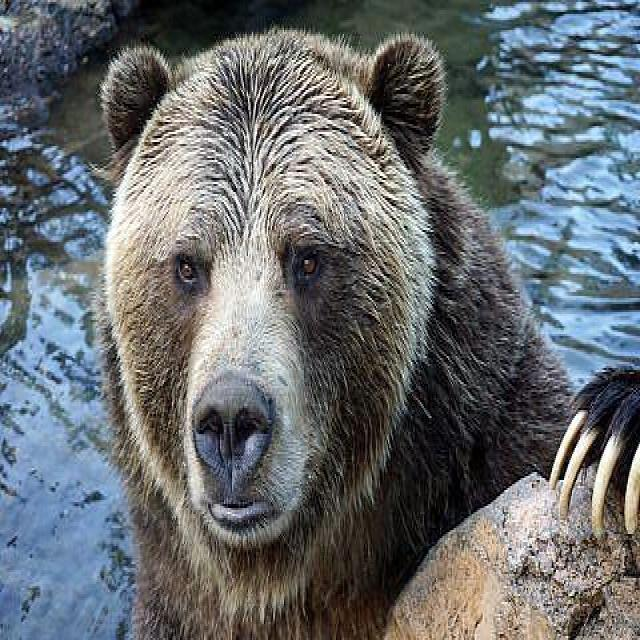Bear: (97, 28, 573, 640)
